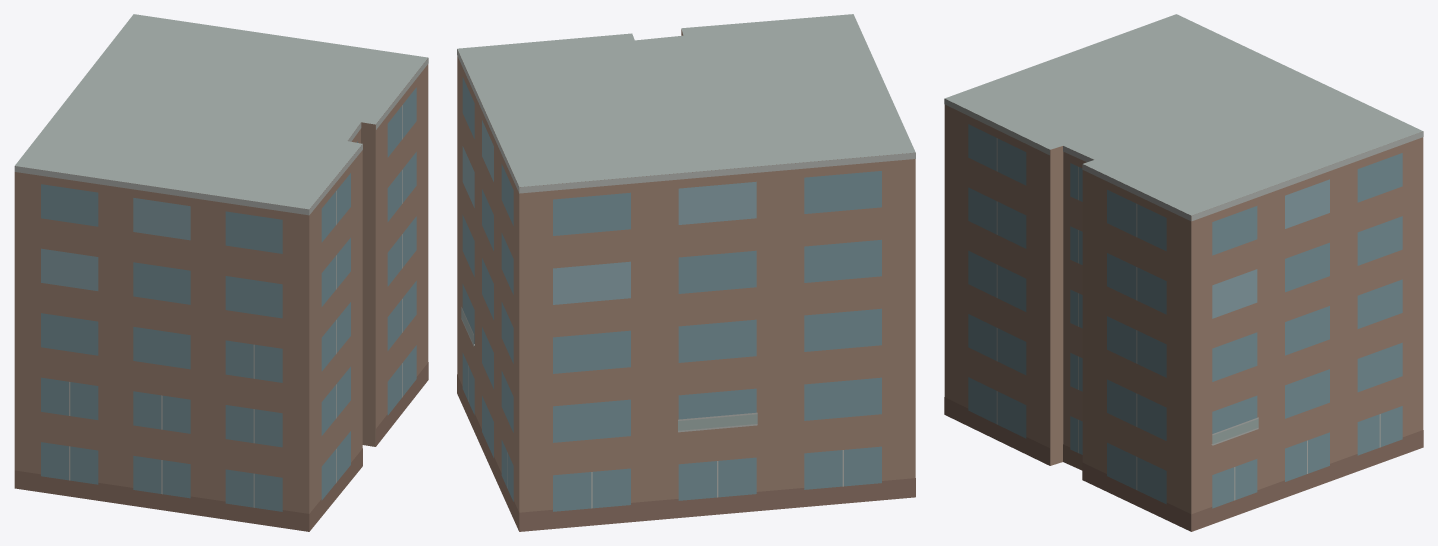
File: survey-upis-32624694.glb
The picture shows the model from 3 angles, left to right: view 1: azimuth 30°, elevation 25°; view 2: azimuth 150°, elevation 25°; view 3: azimuth 270°, elevation 25°; orthographic projection. The views are drawn at different scales.
Visible parts, largest first — view 1: survey-upis-32624694.tmp; view 2: survey-upis-32624694.tmp; view 3: survey-upis-32624694.tmp.
Part boxes in pixels (bbox=[...]): survey-upis-32624694.tmp: bbox=[14, 14, 428, 531]; survey-upis-32624694.tmp: bbox=[457, 14, 915, 531]; survey-upis-32624694.tmp: bbox=[944, 14, 1423, 531].
Size of the model in its own units: 18.13 by 13.25 by 18.19.
